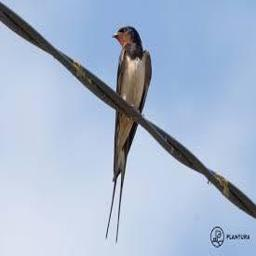Swallow: (105, 27, 152, 242)
